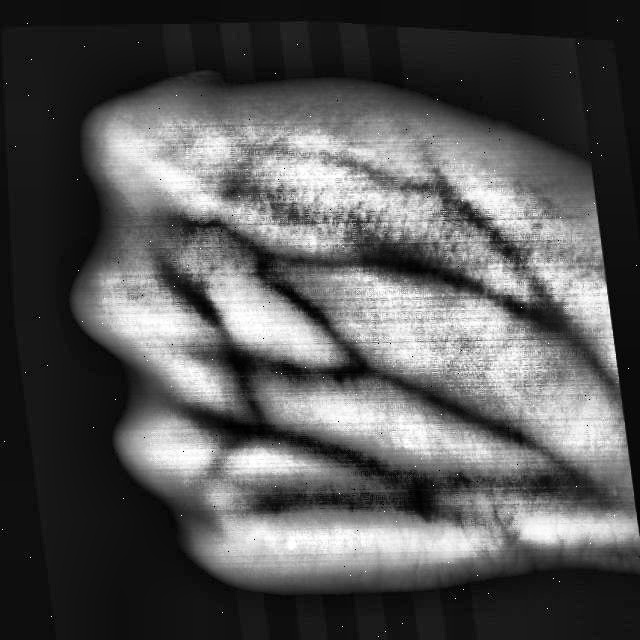Vein: (273, 417, 520, 509)
